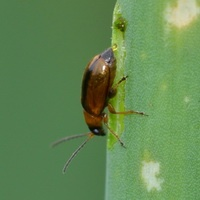insect: (52, 48, 144, 172)
